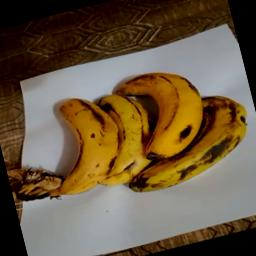Banana Unripe: (3, 51, 256, 219)
